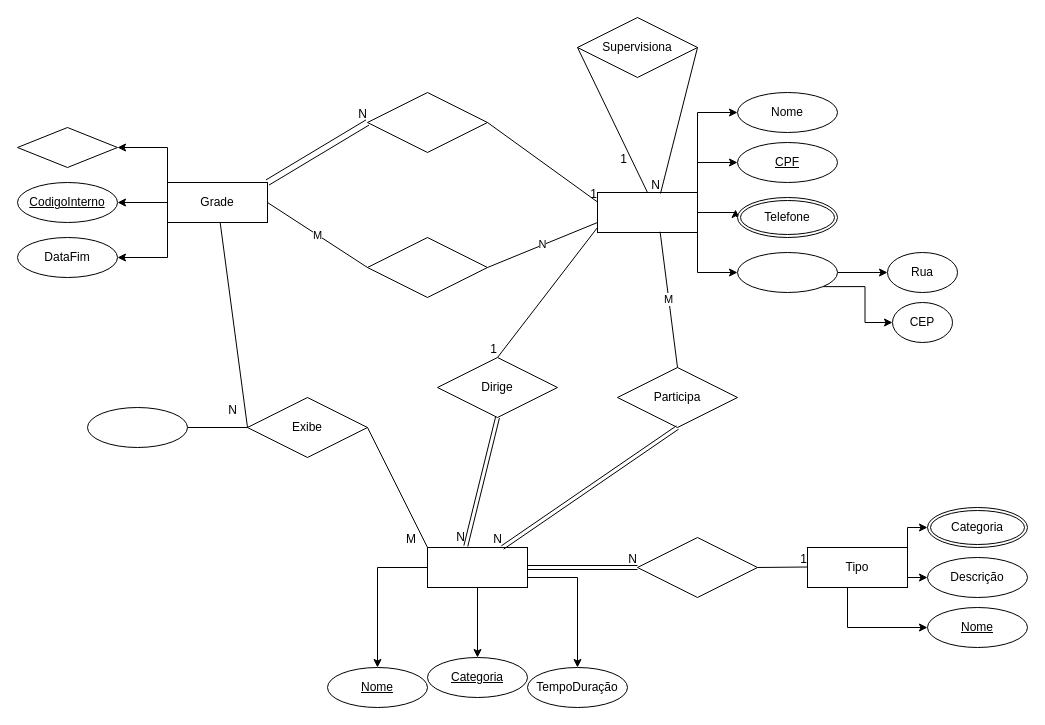
The diagram is 1045 pixels wide and 725 high, and some of its shapes have lost their labels. The centre of each missing label's shape, as x and y in pixels:
Colabora: pixel 427 267
Coordena: pixel 427 122
DataInicio: pixel 67 147
Endereço: pixel 787 272
Funcionario: pixel 647 212
Horário: pixel 137 427
Pertence: pixel 697 567
Programa: pixel 477 567
